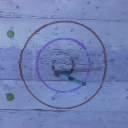Axe Tip: (60, 70, 70, 73)
